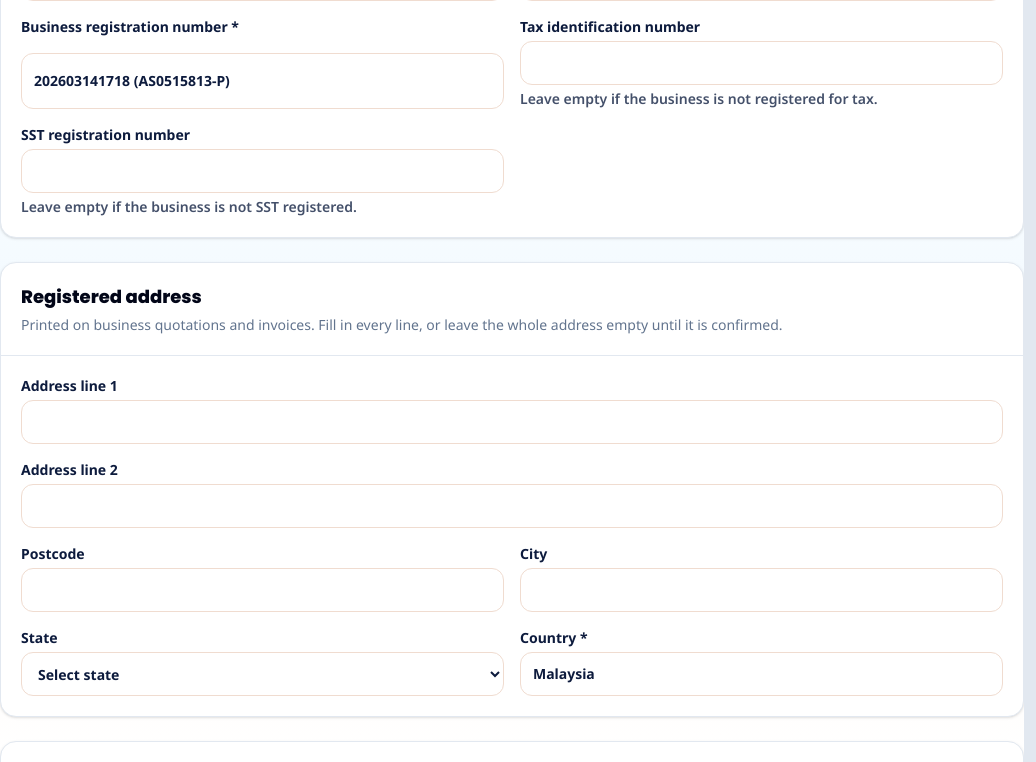
Test case: AdminBusinessIdentityManager › shows the server's message against the field it belongs to
(page scrolled)
In the field labelled "Address line 1": (512, 422) top-left (21, 400), bottom-right (1003, 444), type "12 Jalan Satu"
(page scrolled)
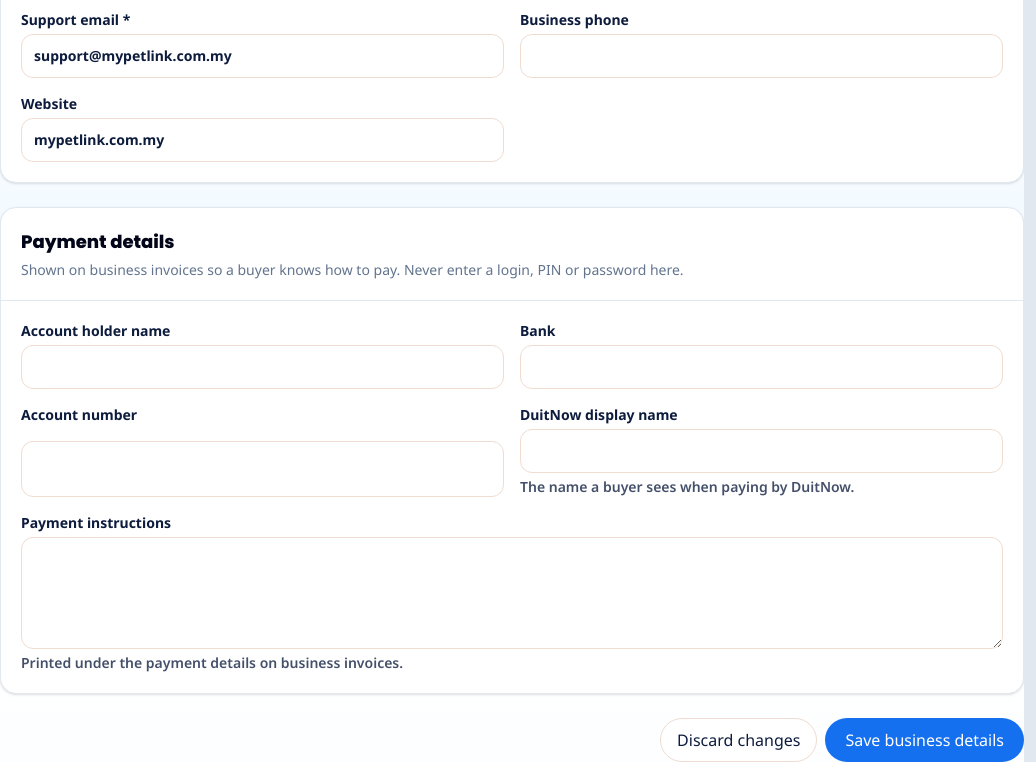
Click the button with test id "business-identity-save": (925, 740) top-left (826, 718), bottom-right (1024, 761)
(page scrolled)
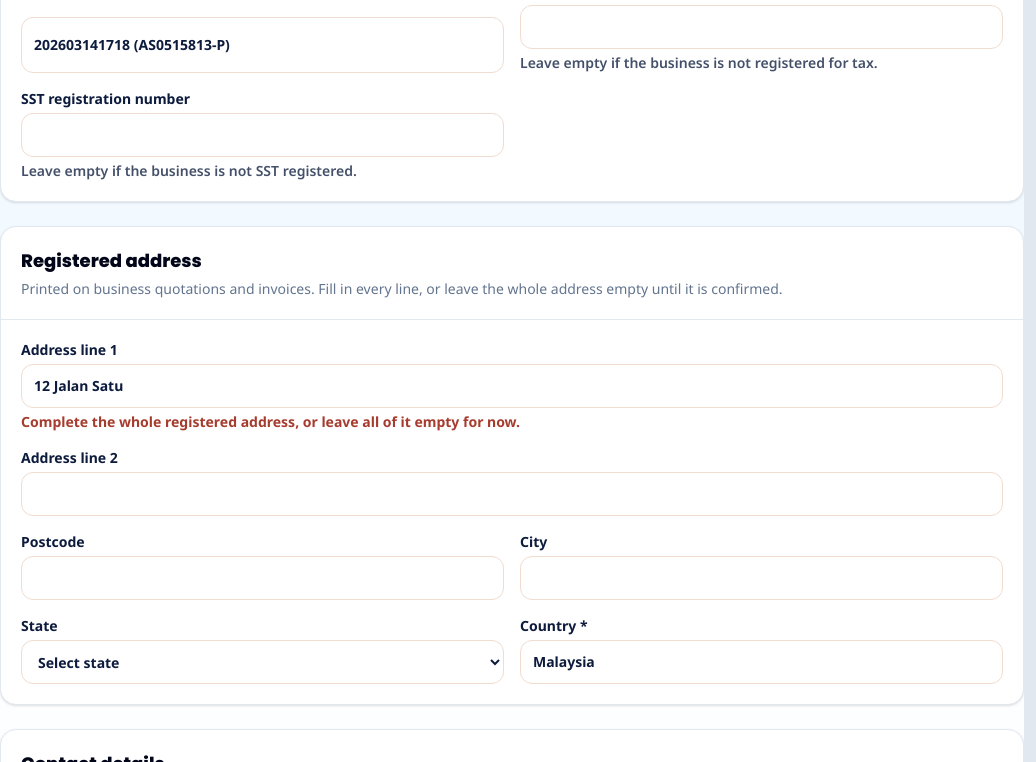
Expected: the text "Complete the whole registered address, or leave all of it empty for now." is shown, top-left (21, 412), bottom-right (520, 431)
